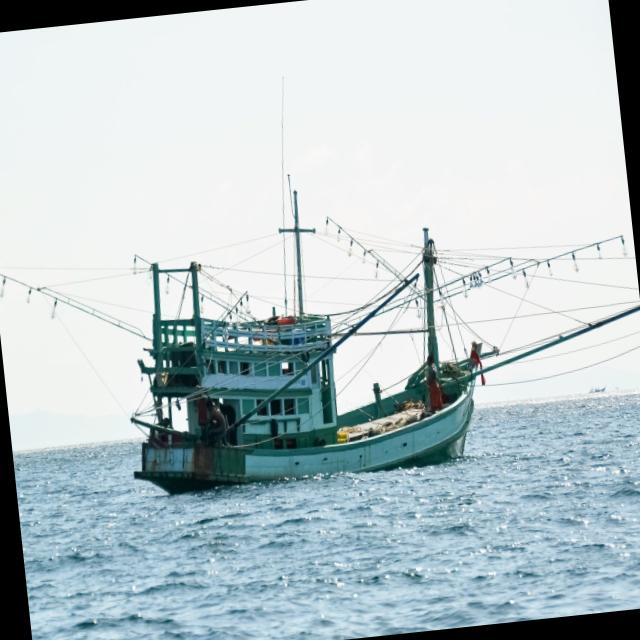boat: (95, 151, 507, 524)
